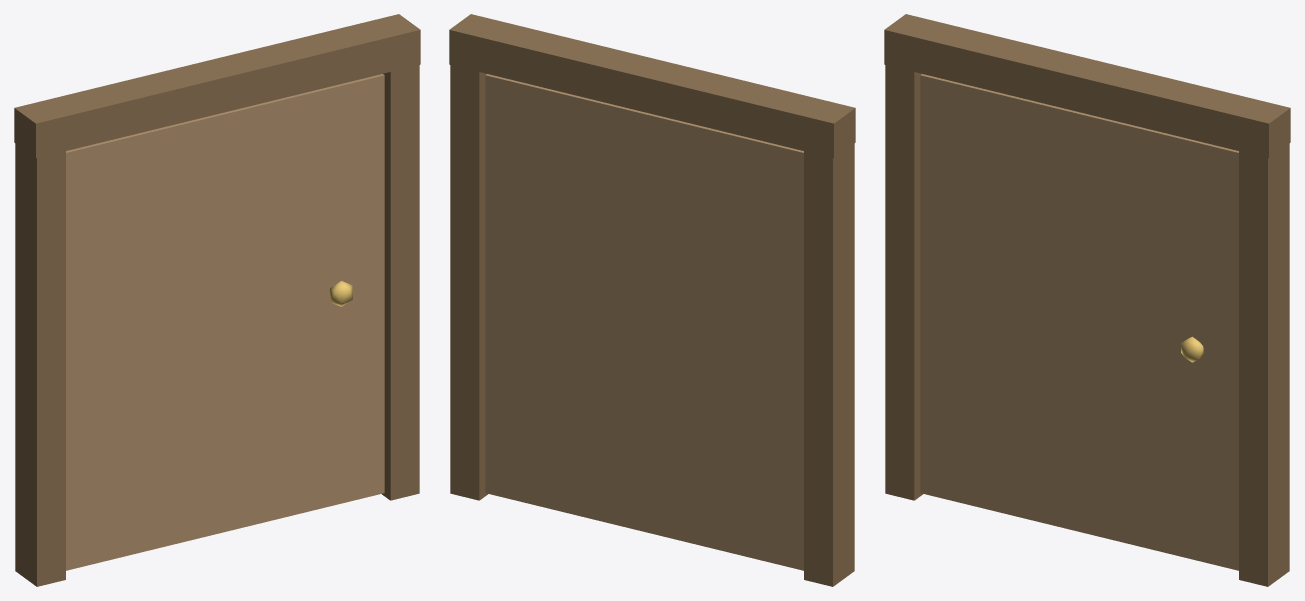
Rendered from door.glb.
The picture shows the model from 3 angles, left to right: view 1: azimuth 30°, elevation 25°; view 2: azimuth 150°, elevation 25°; view 3: azimuth 330°, elevation 25°; orthographic projection.
Parts seen in each view (by area): view 1: Panel, FrameL, Top.001, FrameR; view 2: Panel, FrameL, Top.001, FrameR; view 3: Panel, FrameR, Top.001, FrameL.
Part boxes in pixels (x1,y1,x2,y2): Panel: (66,74,384,570); FrameL: (15,123,65,586); Top.001: (14,14,420,158); FrameR: (382,36,419,500); Panel: (485,74,803,570); FrameL: (804,123,854,586); Top.001: (449,14,855,158); FrameR: (450,37,487,500); Panel: (920,74,1238,570); FrameR: (1239,123,1289,586); Top.001: (884,14,1290,158); FrameL: (885,37,922,500).
Bounding box in the file's own units: 1.85 × 2.13 × 0.204.
